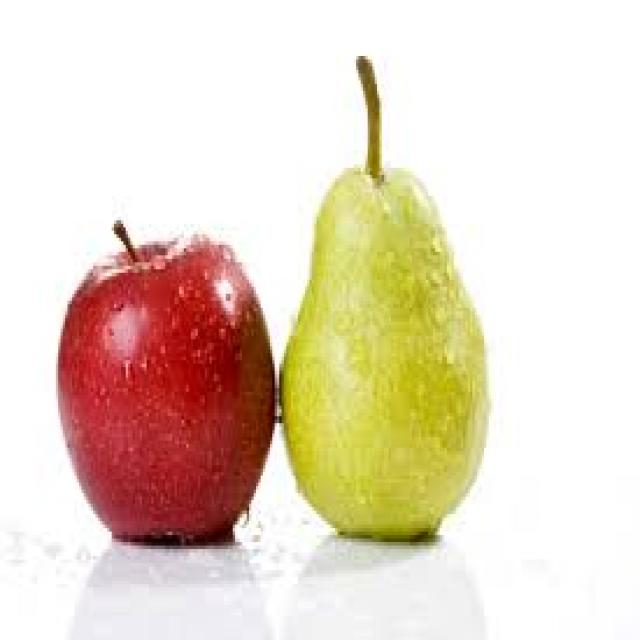apple: (53, 227, 277, 556)
pear: (280, 56, 493, 549)
